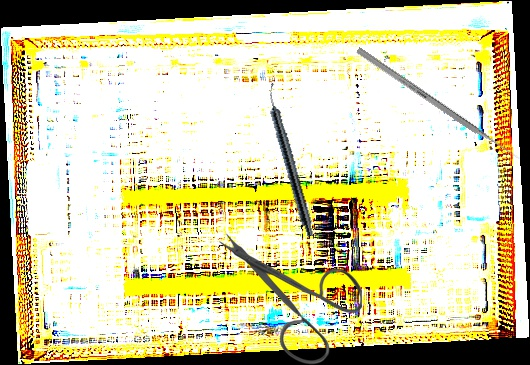Handpiece: (261, 82, 319, 238)
Iris Scissors: (219, 232, 362, 365)
Pusher: (355, 47, 522, 162)
